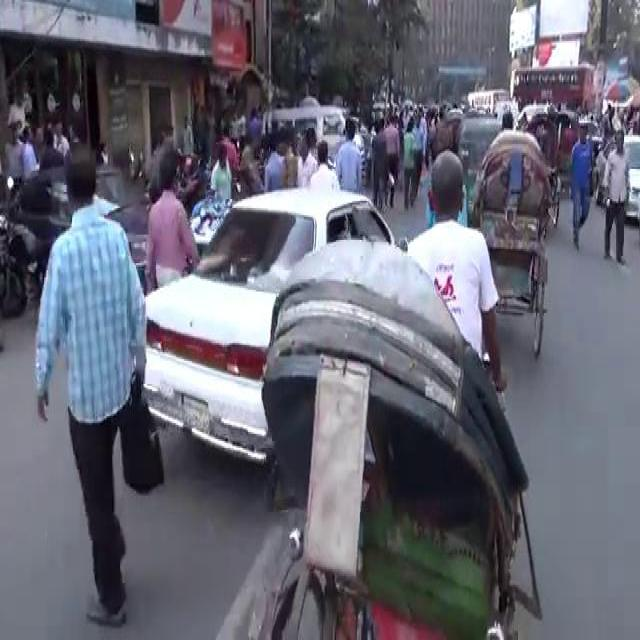bus: (509, 62, 593, 112), (464, 85, 508, 114)
car: (141, 177, 401, 470), (8, 159, 154, 303), (592, 130, 638, 226)
rickshaw: (243, 234, 545, 637), (472, 126, 550, 368)
three wheelers -CNG-: (455, 113, 503, 211)
van: (264, 98, 368, 162)
